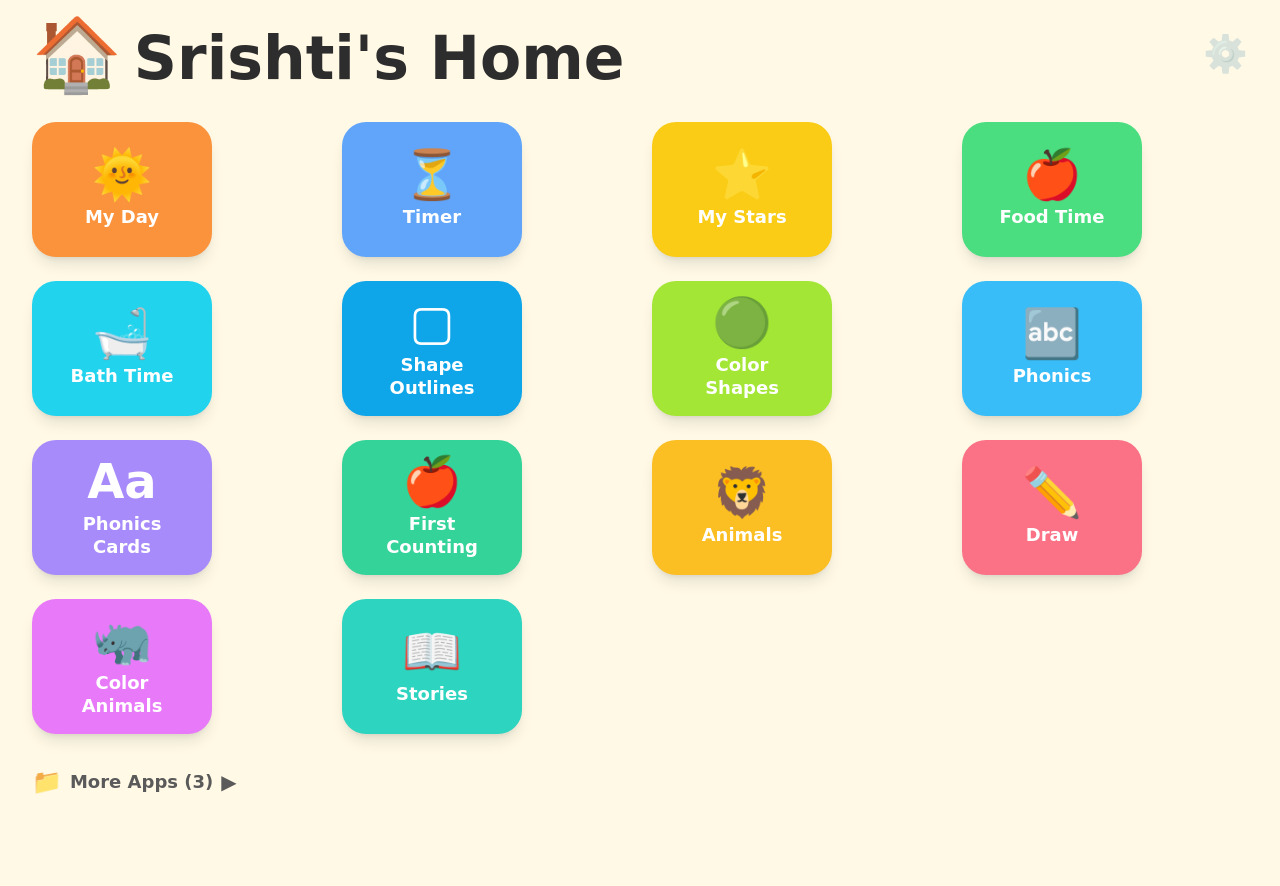
HomePage › should sort archived apps by last used (most recent first)
Note: Expand the section
What coordinates should you click on to do the following:
click the text "More Apps (3)"
I would click on:
 (142, 782)
Its box is [70, 768, 213, 796].
(page scrolled)
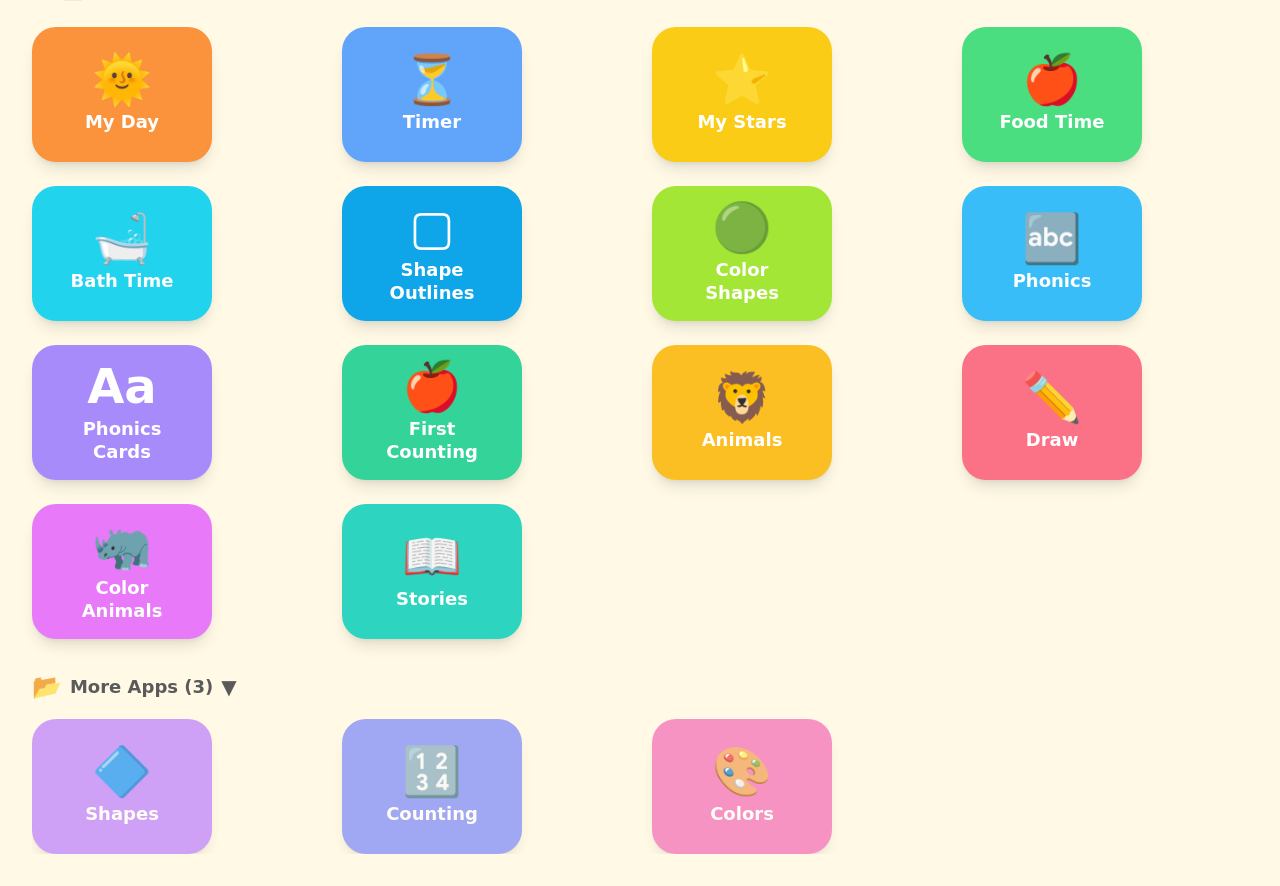
Now the button "🔷 Shapes" is shown, box [32, 719, 212, 854]
Now the button "🔢 Counting" is shown, box [342, 719, 522, 854]
Now the button "🎨 Colors" is shown, box [652, 719, 832, 854]
